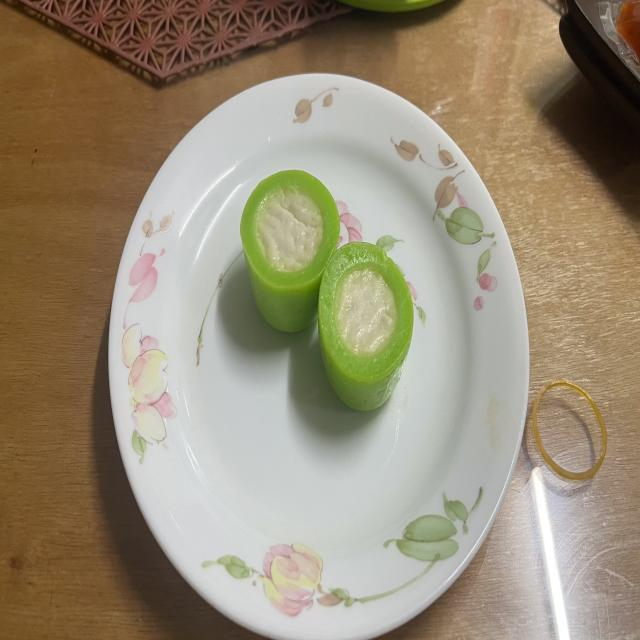nona-manis: (319, 242, 414, 411), (240, 171, 340, 331)
